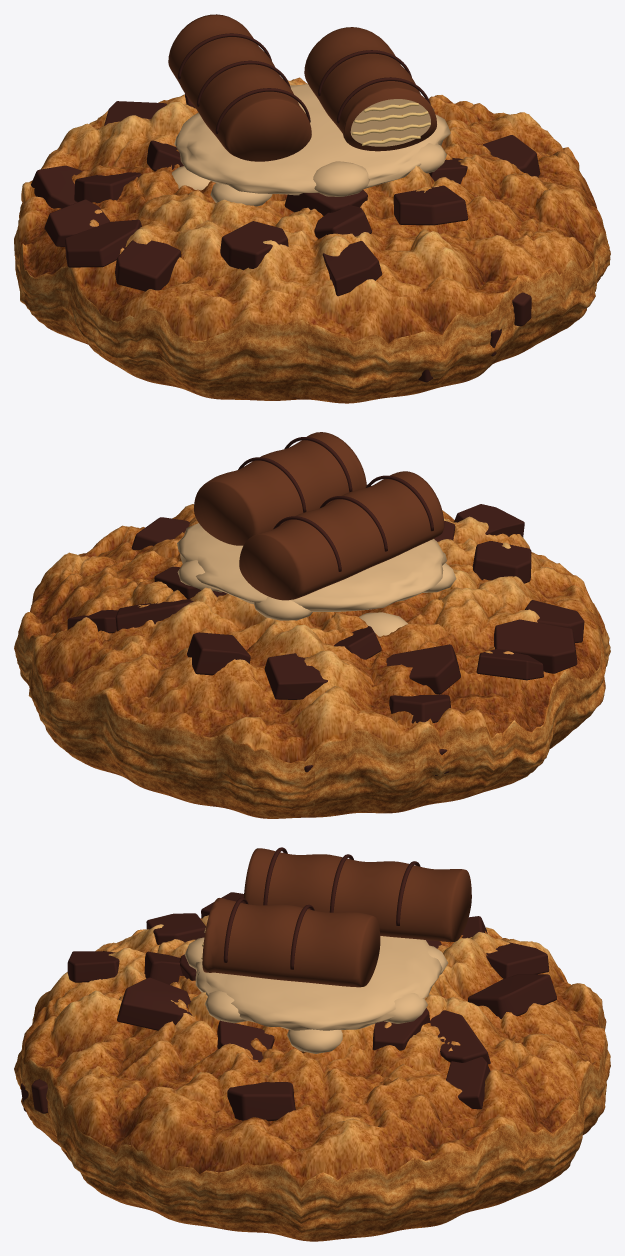
File: tem_bueno.glb
The picture shows the model from 3 angles, top to bottom: view 1: azimuth 30°, elevation 25°; view 2: azimuth 150°, elevation 25°; view 3: azimuth 270°, elevation 25°; orthographic projection. The views are drawn at different scales.
Parts seen in each view (by area): view 1: Baked porous crumb, Dark chocolate, Wafer crumb; view 2: Baked porous crumb, Dark chocolate; view 3: Baked porous crumb, Dark chocolate.
Part boxes in pixels (x1,y1,x2,y2): Baked porous crumb: (14, 77, 610, 403); Dark chocolate: (31, 14, 540, 382); Wafer crumb: (351, 102, 430, 145); Baked porous crumb: (14, 504, 610, 818); Dark chocolate: (67, 432, 584, 786); Baked porous crumb: (14, 915, 610, 1241); Dark chocolate: (20, 847, 556, 1121).
Size of the model in its own units: 0.093 by 0.0406 by 0.0903.
5 materials, 5 textured.
